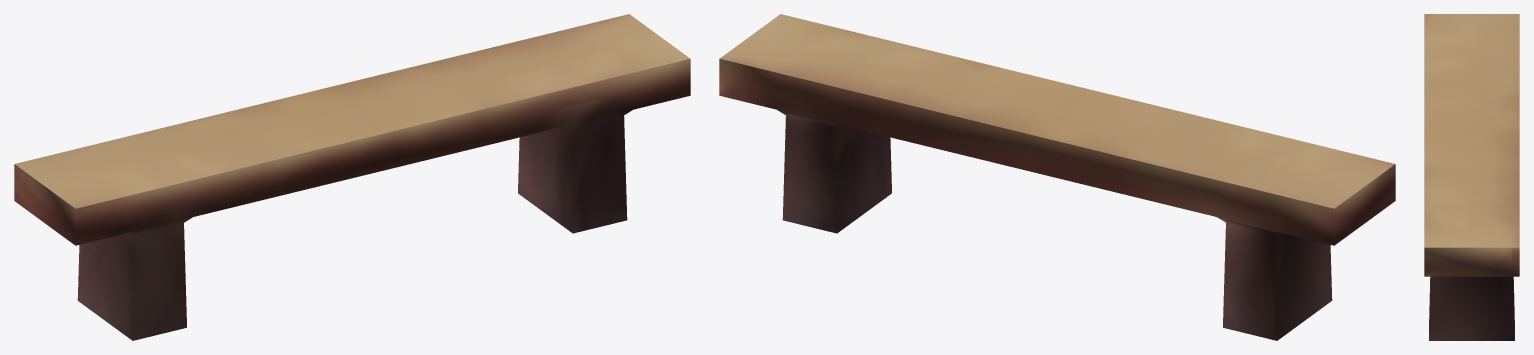
The model's file is table.fbx.
The picture shows the model from 3 angles, left to right: view 1: azimuth 30°, elevation 25°; view 2: azimuth 150°, elevation 25°; view 3: azimuth 270°, elevation 25°; orthographic projection. The views are drawn at different scales.
Visible parts, largest first — view 1: table; view 2: table; view 3: table.
Boxes of the visible parts, <box> form: table: <box>14,14,690,340</box>; table: <box>719,14,1395,340</box>; table: <box>1424,14,1519,340</box>.
Size of the model in its own units: 344 by 79.79 by 59.28.
